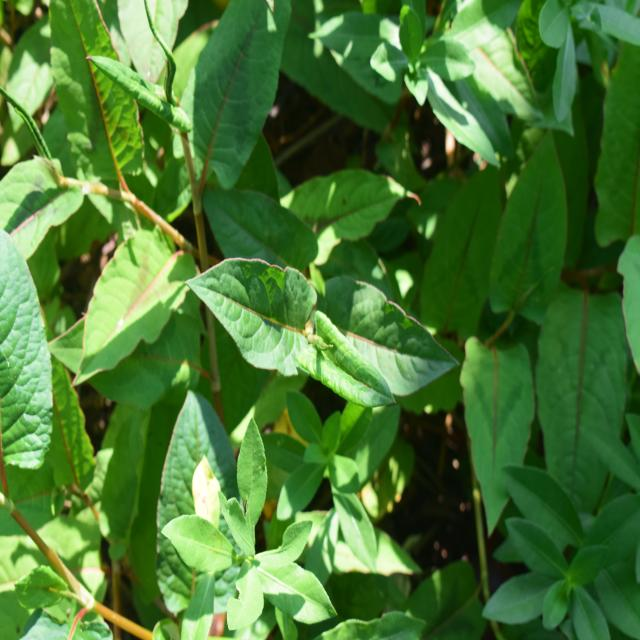Chinese_knotweed: (188, 230, 443, 436)
